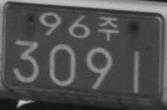0: (49, 43, 76, 87)
1: (123, 50, 149, 94)
3: (12, 38, 39, 82)
6: (68, 13, 91, 39)
9: (85, 46, 113, 88), (38, 11, 61, 37)
주: (97, 15, 119, 41)
